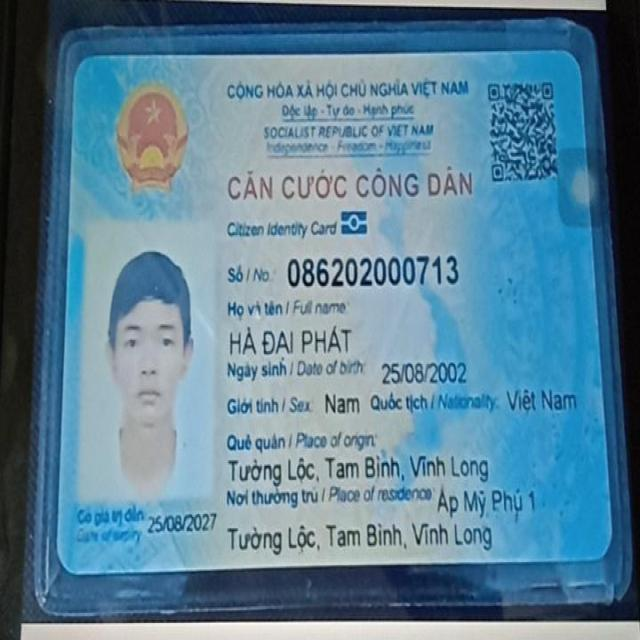bottom_left: (44, 540, 89, 594)
bottom_right: (572, 534, 626, 570)
image_person: (73, 229, 218, 496)
top_left: (62, 48, 103, 86)
top_right: (552, 45, 588, 75)
